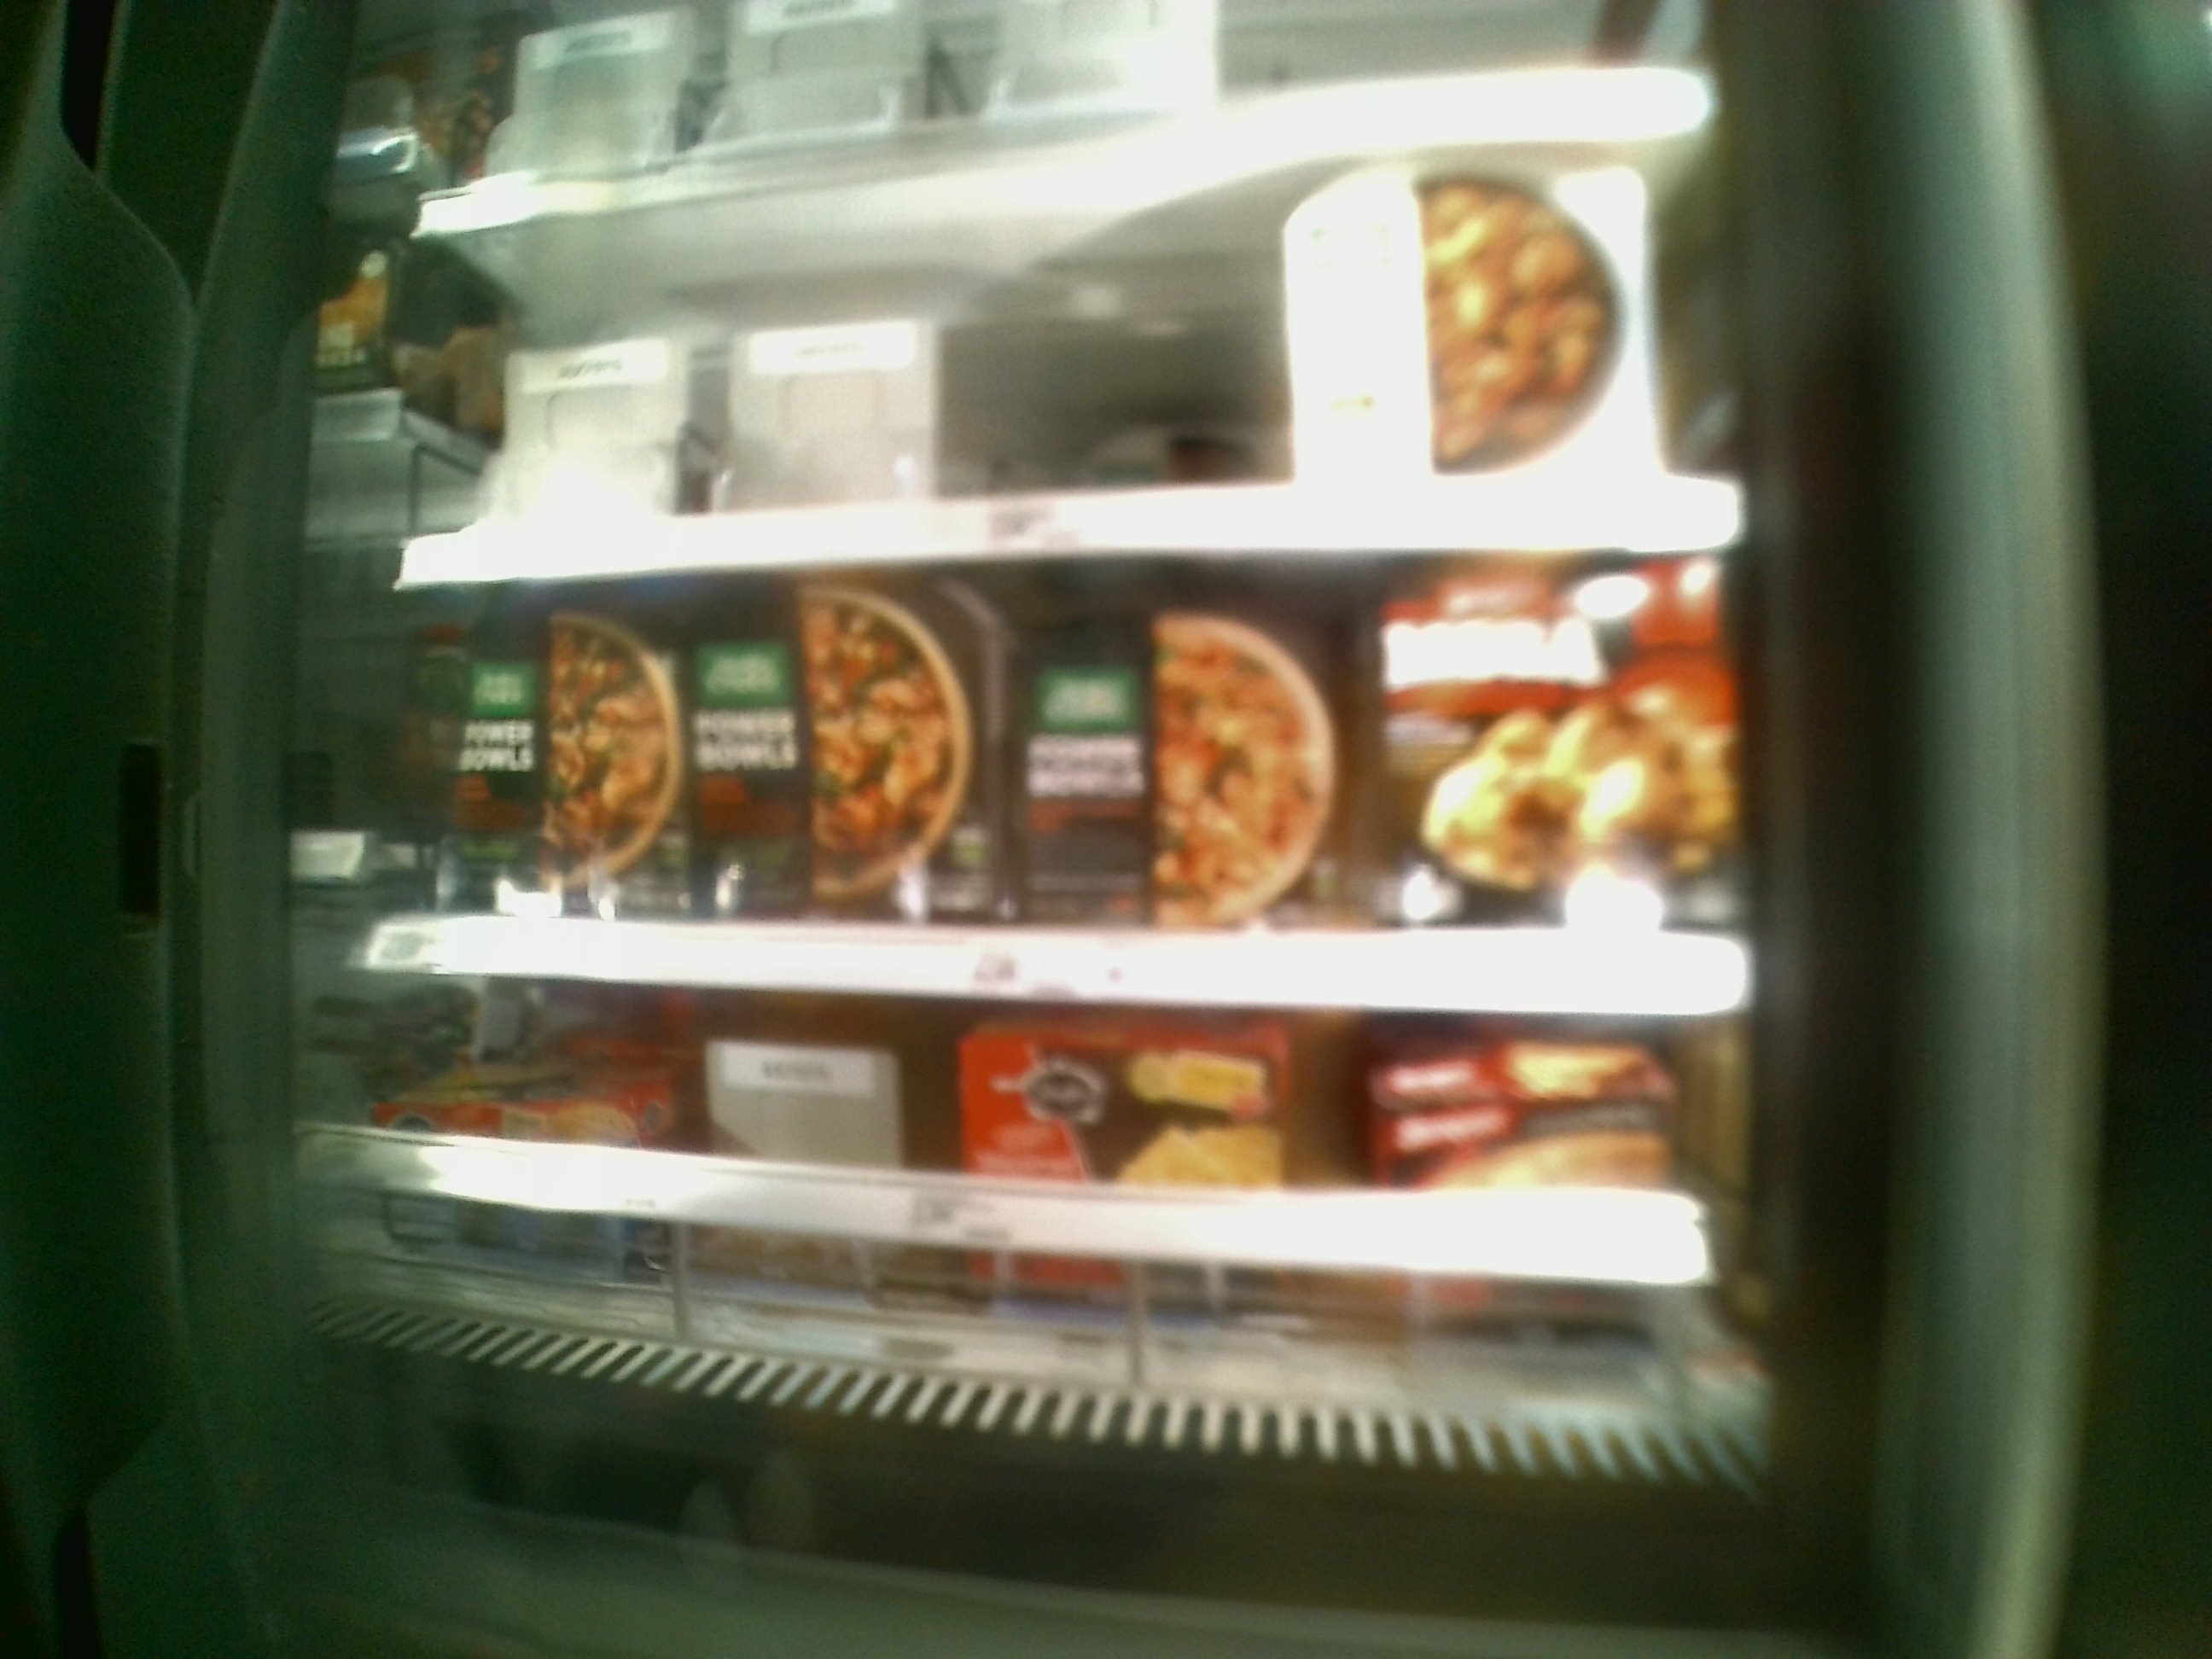Shelf: (334, 974, 1761, 1453), (371, 582, 1764, 1012)
